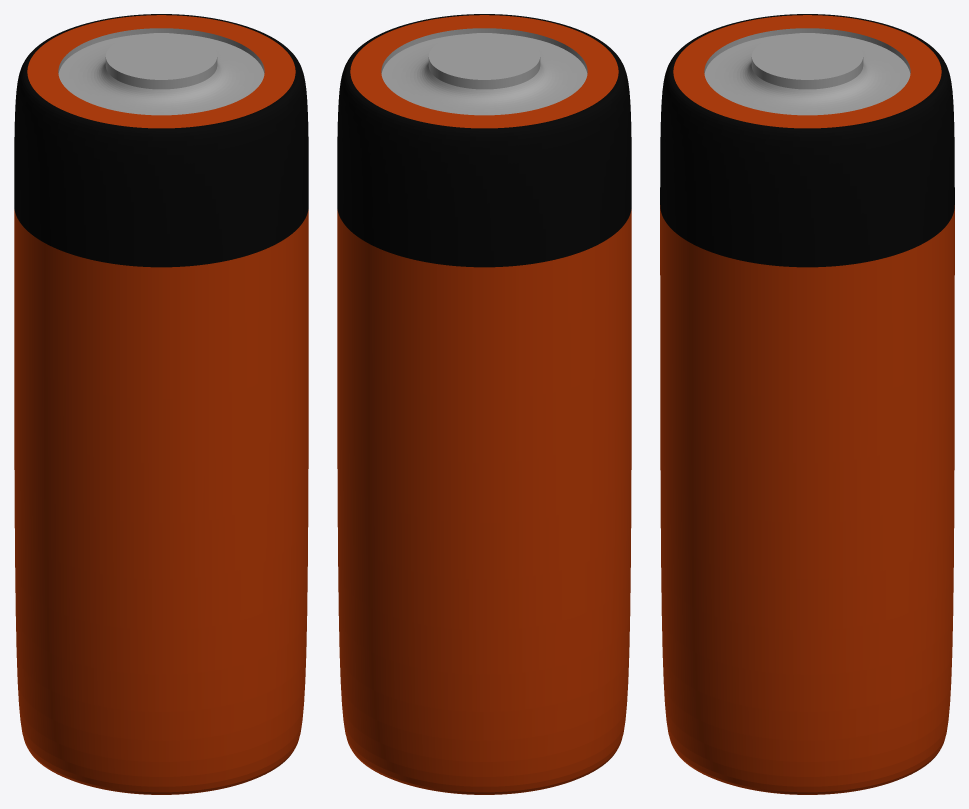
The model's file is Battery.obj.
3 renders of one model, left to right at view 1: azimuth 30°, elevation 25°; view 2: azimuth 150°, elevation 25°; view 3: azimuth 270°, elevation 25°, orthographic.
Parts seen in each view (by area): view 1: Battery_Cylinder.003; view 2: Battery_Cylinder.003; view 3: Battery_Cylinder.003.
Boxes of the visible parts, left/top/right/bottom form: Battery_Cylinder.003: left=14, top=14, right=308, bottom=794; Battery_Cylinder.003: left=337, top=14, right=631, bottom=794; Battery_Cylinder.003: left=660, top=14, right=954, bottom=794.
Bounding box in the file's own units: 0.8455 × 2.19 × 0.8455.
